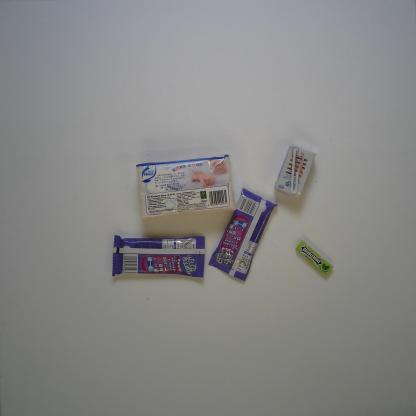Candy: (206, 185, 279, 282), (108, 232, 207, 280)
Gum: (292, 238, 336, 277)
Milk: (271, 140, 317, 199)
Tissue: (134, 152, 238, 221)
